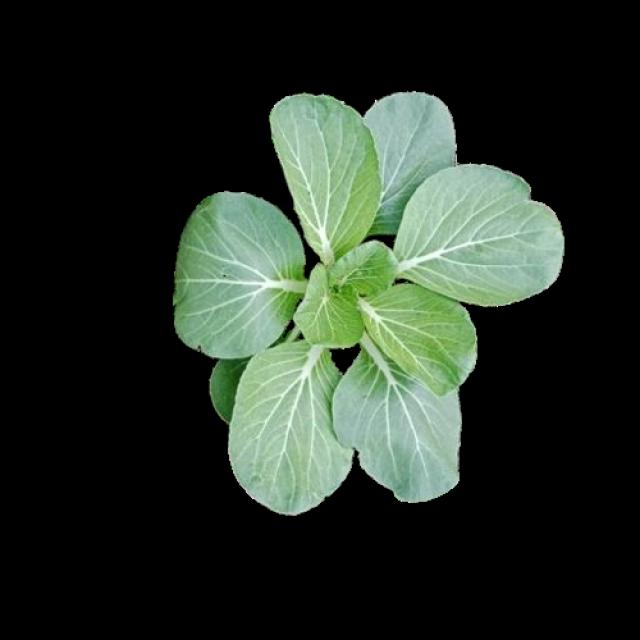healthy: (174, 108, 558, 506)
not-mature: (174, 95, 561, 508)
